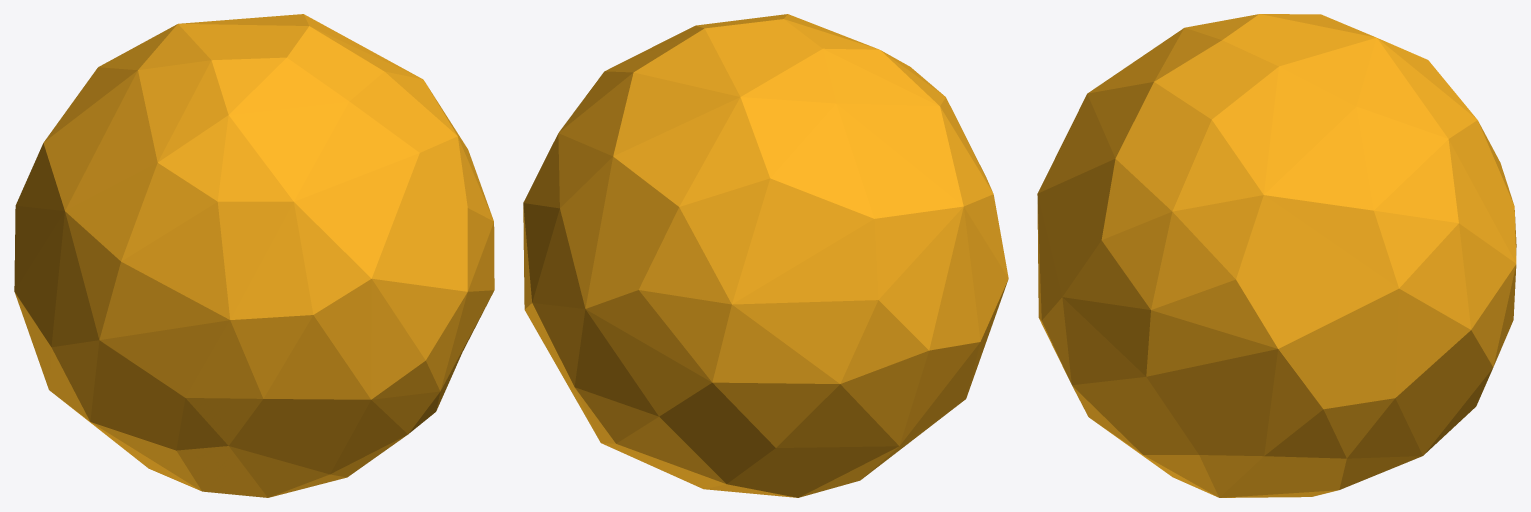
Rendered from Sun.gltf.
3 renders of one model, left to right at view 1: azimuth 30°, elevation 25°; view 2: azimuth 150°, elevation 25°; view 3: azimuth 270°, elevation 25°, orthographic.
Visible parts, largest first — view 1: Icosphere.001; view 2: Icosphere.001; view 3: Icosphere.001.
Boxes of the visible parts, x1,y1,x2,y2 form: Icosphere.001: [14, 14, 494, 497]; Icosphere.001: [523, 14, 1008, 497]; Icosphere.001: [1037, 14, 1516, 497].
Size of the model in its own units: 2.53 by 2.47 by 2.44.
